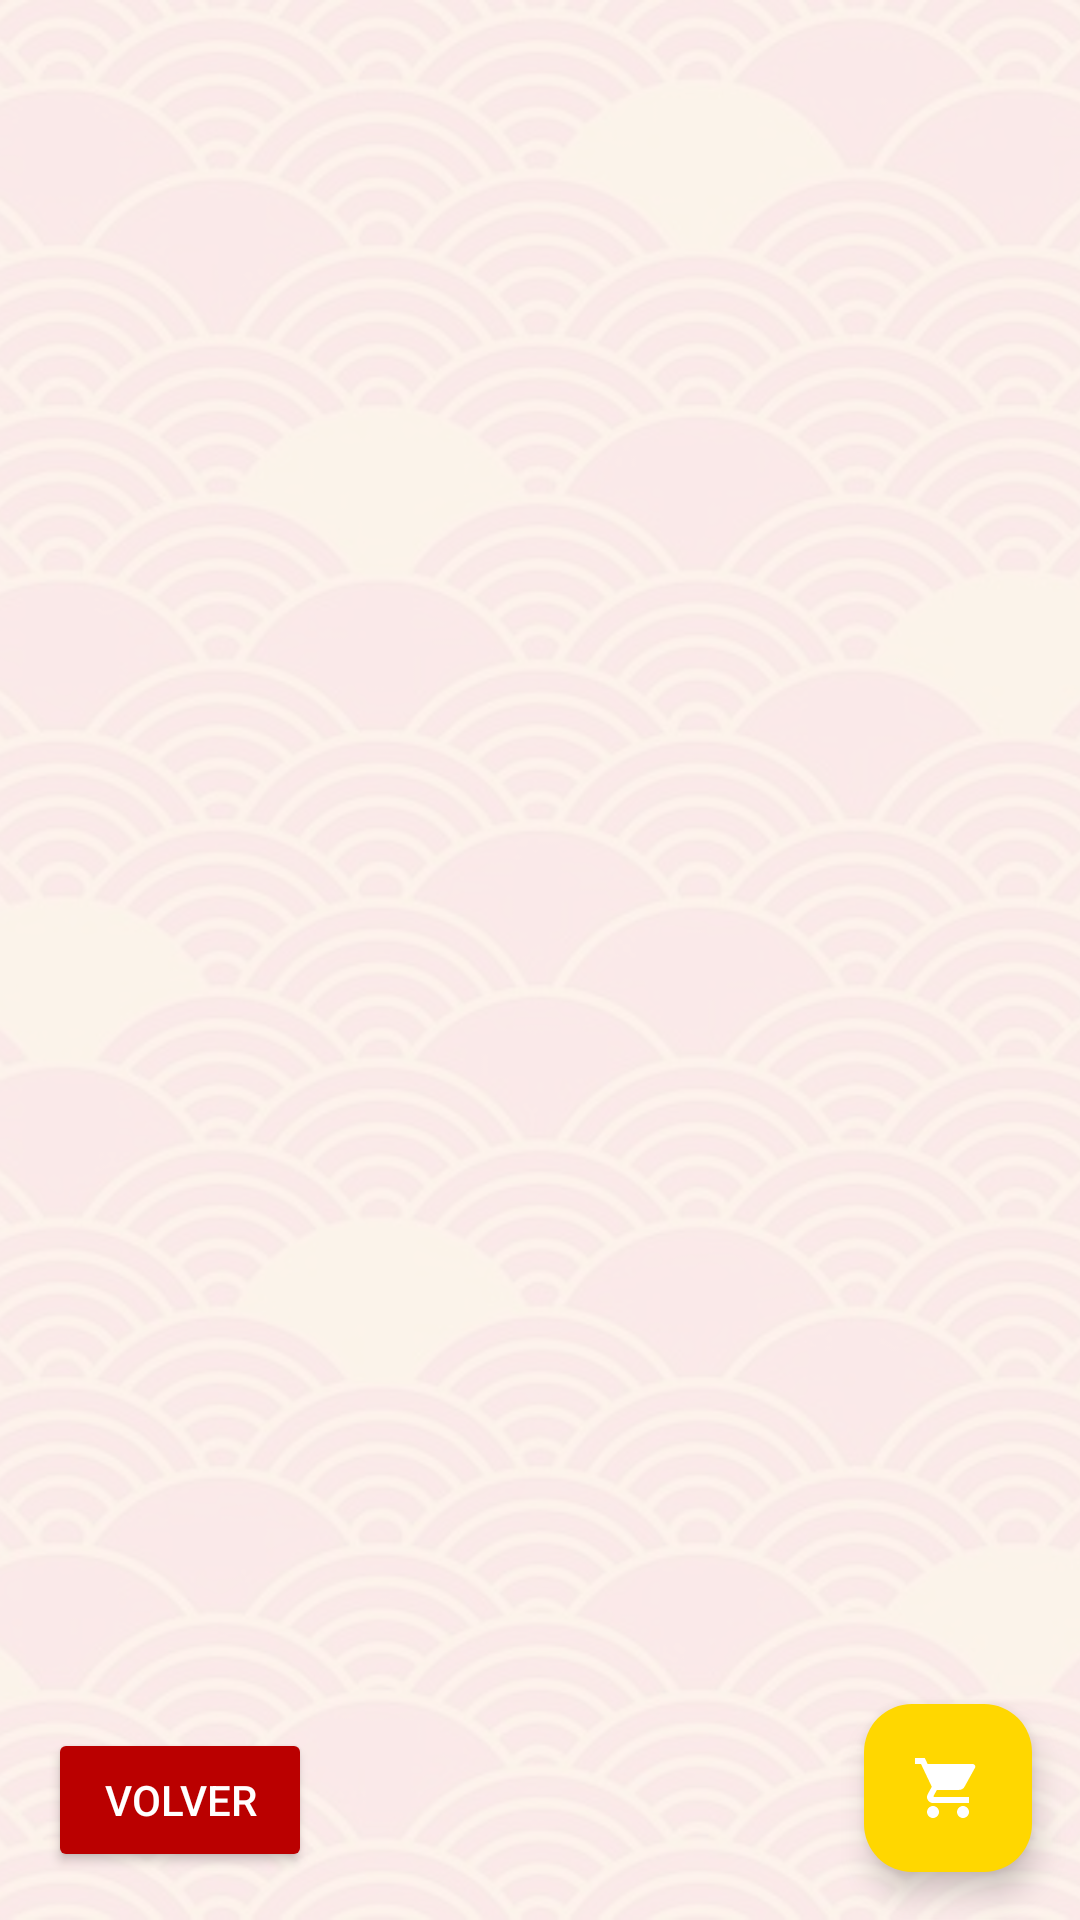

Screen size 1080w x 1920h. Icon name, then its center in pixels as (x,y):
shopping cart: (948,1788)
